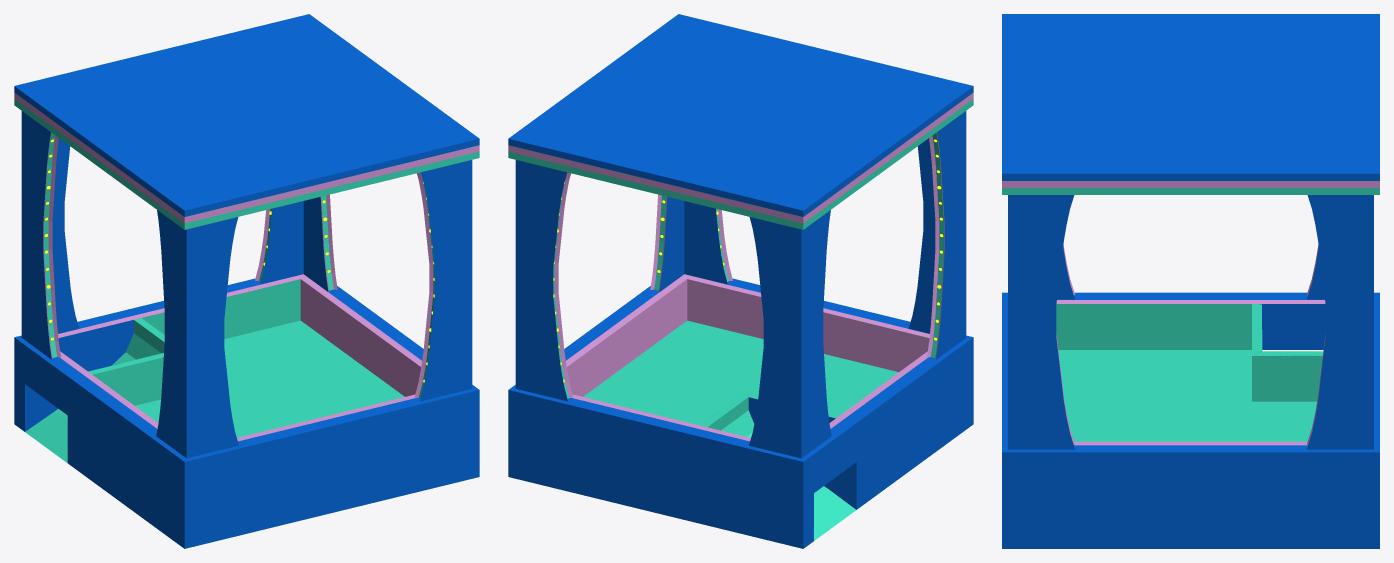
File: CRANE.fbx
3 views of the same model, side by side, from view 1: azimuth 30°, elevation 25°; view 2: azimuth 150°, elevation 25°; view 3: azimuth 270°, elevation 25° (orthographic). The views are drawn at different scales.
Visible parts, largest first — view 1: Bottom_Current, Top, Cube.008, Cube.004, Cube.001, Cube.005, Cube.003, Cube.010, Cube.002, Cube.011, Cube.006, Cube; view 2: Bottom_Current, Top, Cube.010, Cube.002, Cube.005, Cube.001, Cube, Cube.008, Cube.004, Cube.007, Cube.009, Cube.003; view 3: Bottom_Current, Top, Cube.007, Cube.011, Cube.009, Cube.006, Cube.001, Cube.005.
Part boxes in pixels (bbox=[...]): Bottom_Current: bbox=[14, 274, 479, 548]; Top: bbox=[14, 14, 479, 229]; Cube.008: bbox=[414, 162, 463, 401]; Cube.004: bbox=[195, 217, 238, 455]; Cube.001: bbox=[26, 115, 60, 359]; Cube.005: bbox=[156, 210, 181, 454]; Cube.003: bbox=[181, 227, 195, 458]; Cube.010: bbox=[255, 201, 303, 284]; Cube.002: bbox=[52, 138, 79, 333]; Cube.011: bbox=[303, 194, 337, 291]; Cube.006: bbox=[463, 160, 472, 390]; Cube: bbox=[21, 111, 26, 340]; Bottom_Current: bbox=[508, 274, 973, 548]; Top: bbox=[508, 14, 973, 229]; Cube.010: bbox=[524, 162, 573, 401]; Cube.002: bbox=[749, 217, 792, 456]; Cube.005: bbox=[927, 114, 961, 359]; Cube.001: bbox=[806, 210, 831, 454]; Cube: bbox=[792, 227, 806, 458]; Cube.008: bbox=[684, 201, 732, 284]; Cube.004: bbox=[908, 138, 935, 333]; Cube.007: bbox=[650, 194, 684, 291]; Cube.009: bbox=[515, 160, 524, 390]; Cube.003: bbox=[961, 111, 966, 340]; Bottom_Current: bbox=[1002, 292, 1379, 548]; Top: bbox=[1002, 14, 1379, 194]; Cube.007: bbox=[1018, 195, 1074, 449]; Cube.011: bbox=[1307, 195, 1363, 449]; Cube.009: bbox=[1362, 195, 1373, 449]; Cube.006: bbox=[1008, 195, 1019, 449]; Cube.001: bbox=[1307, 244, 1324, 299]; Cube.005: bbox=[1057, 244, 1074, 299].
Bounding box in the file's own units: 400 × 438 × 400.
